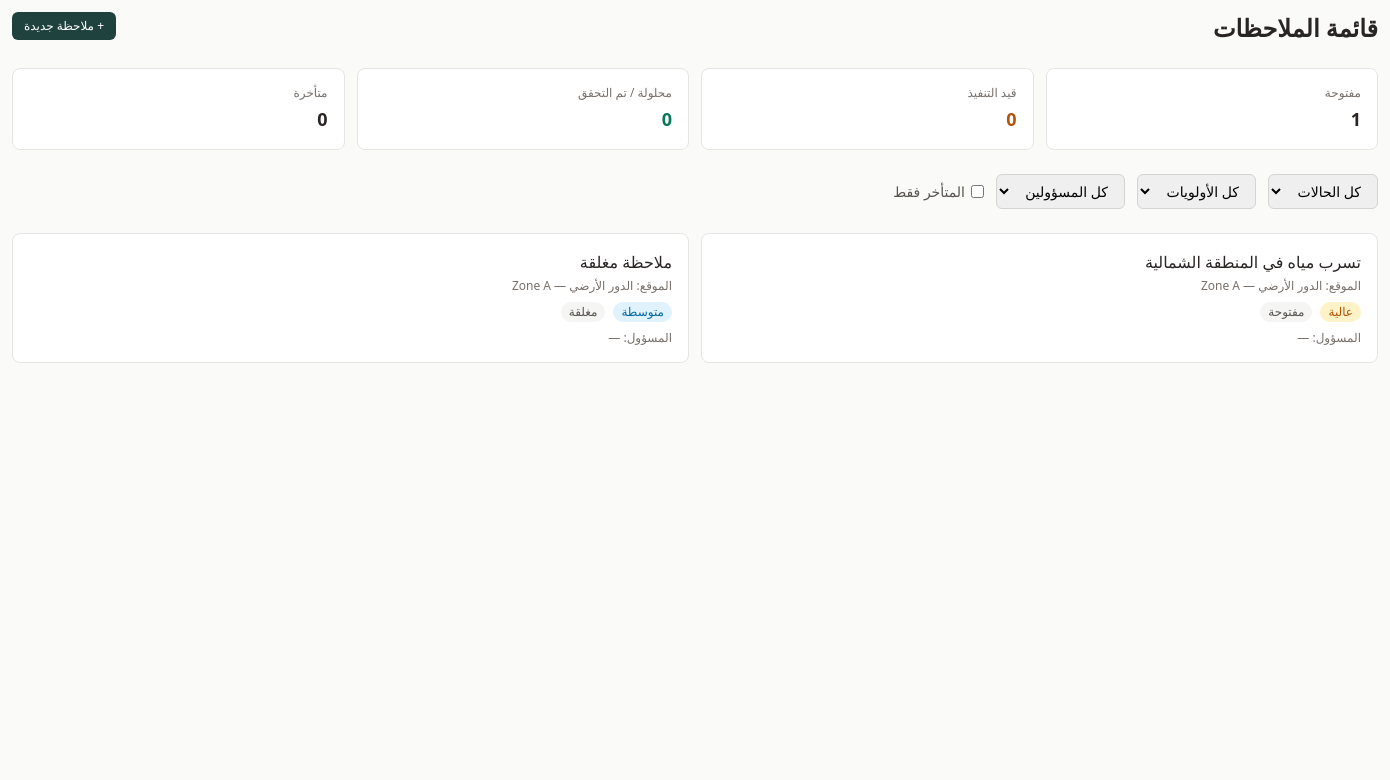
Test case: <PunchListSection/> › shows only the valid next actions for the item's current status, and none for a closed item
Click the text "تسرب مياه في المنطقة الشمالية": (1253, 262) [1145,251,1361,273]
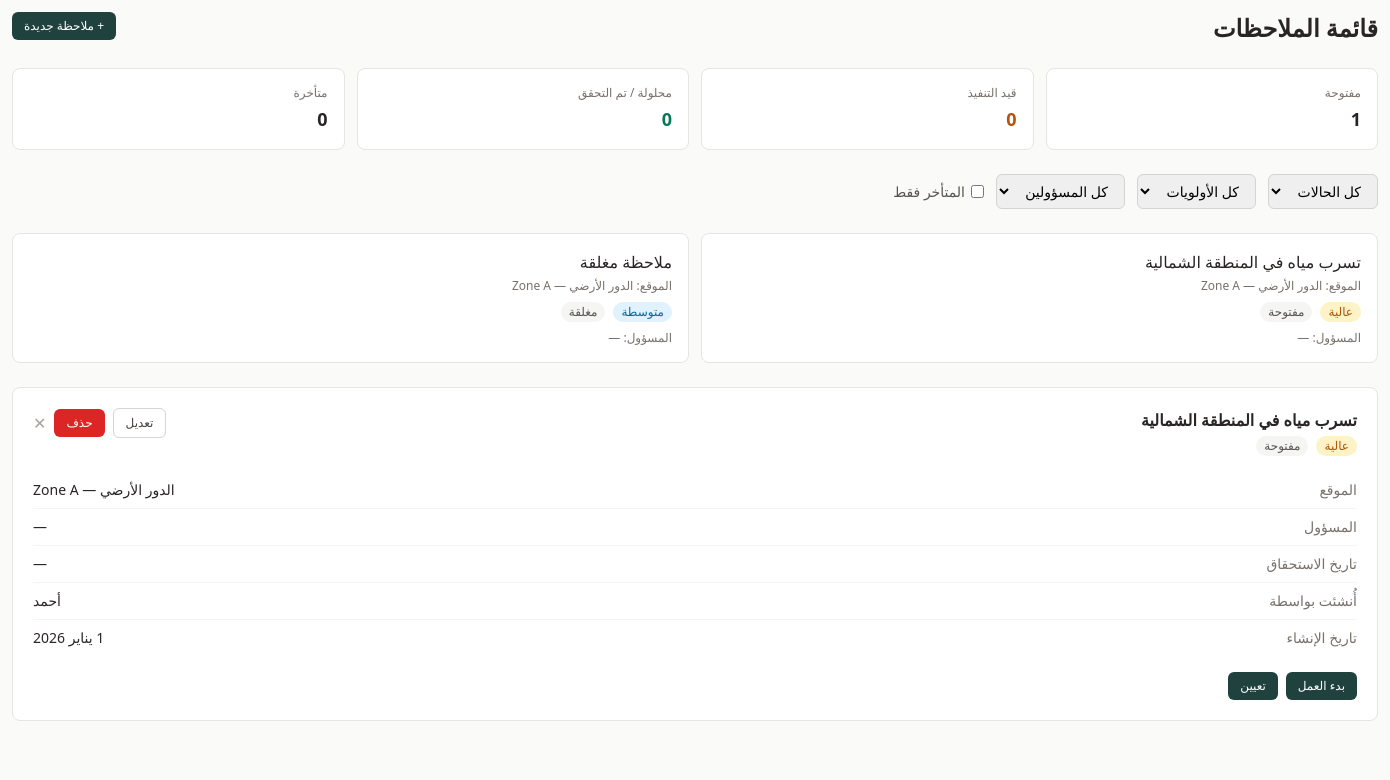
Now the button "بدء العمل" is shown, box [1286,672,1357,700]
Now the button "تعيين" is shown, box [1228,672,1278,700]
Click the text "ملاحظة مغلقة": (626, 262) [580,251,672,273]
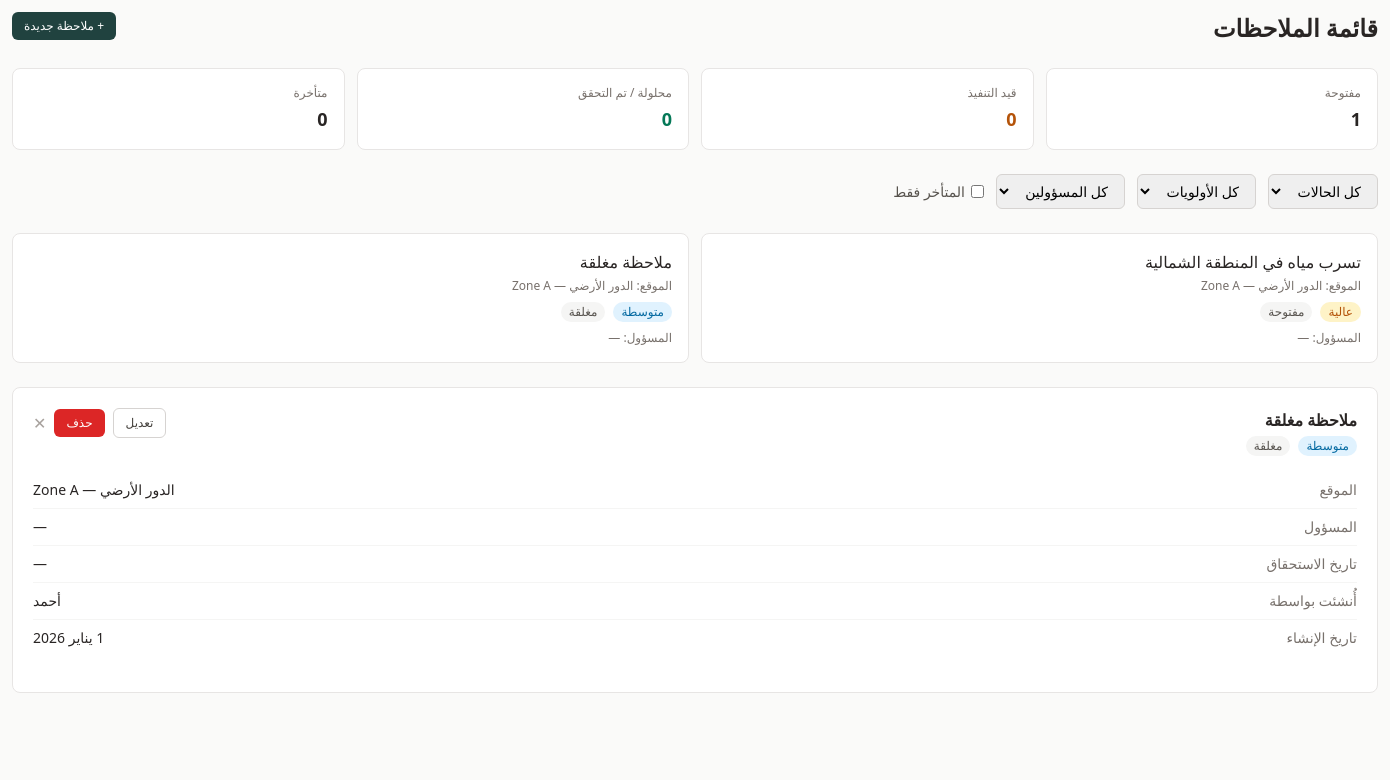
Now the button "بدء العمل" is gone
